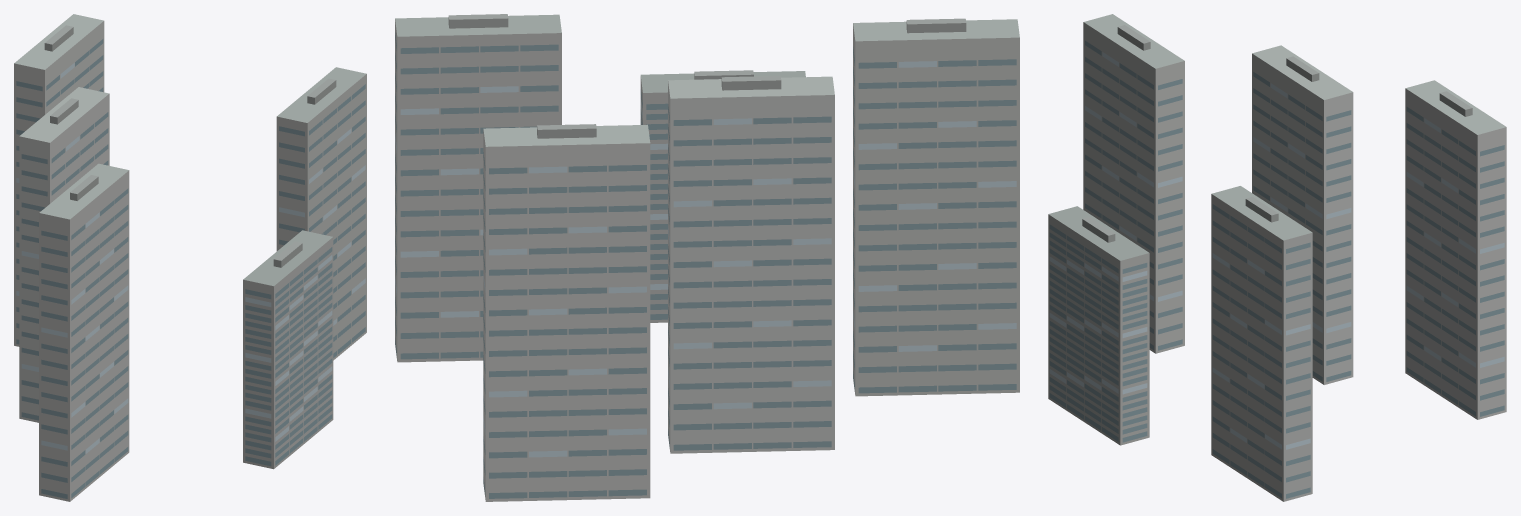
Rendered from apt-a10023598.glb.
3 renders of one model, left to right at view 1: azimuth 30°, elevation 25°; view 2: azimuth 150°, elevation 25°; view 3: azimuth 270°, elevation 25°, orthographic. The views are drawn at different scales.
Parts seen in each view (by area): view 1: apt-a10023598; view 2: apt-a10023598; view 3: apt-a10023598.
Boxes of the visible parts, bbox=[...] form: apt-a10023598: bbox=[14, 14, 366, 501]; apt-a10023598: bbox=[395, 14, 1019, 501]; apt-a10023598: bbox=[1048, 14, 1506, 501].
Bounding box in the file's own units: 148 × 99 × 141.
